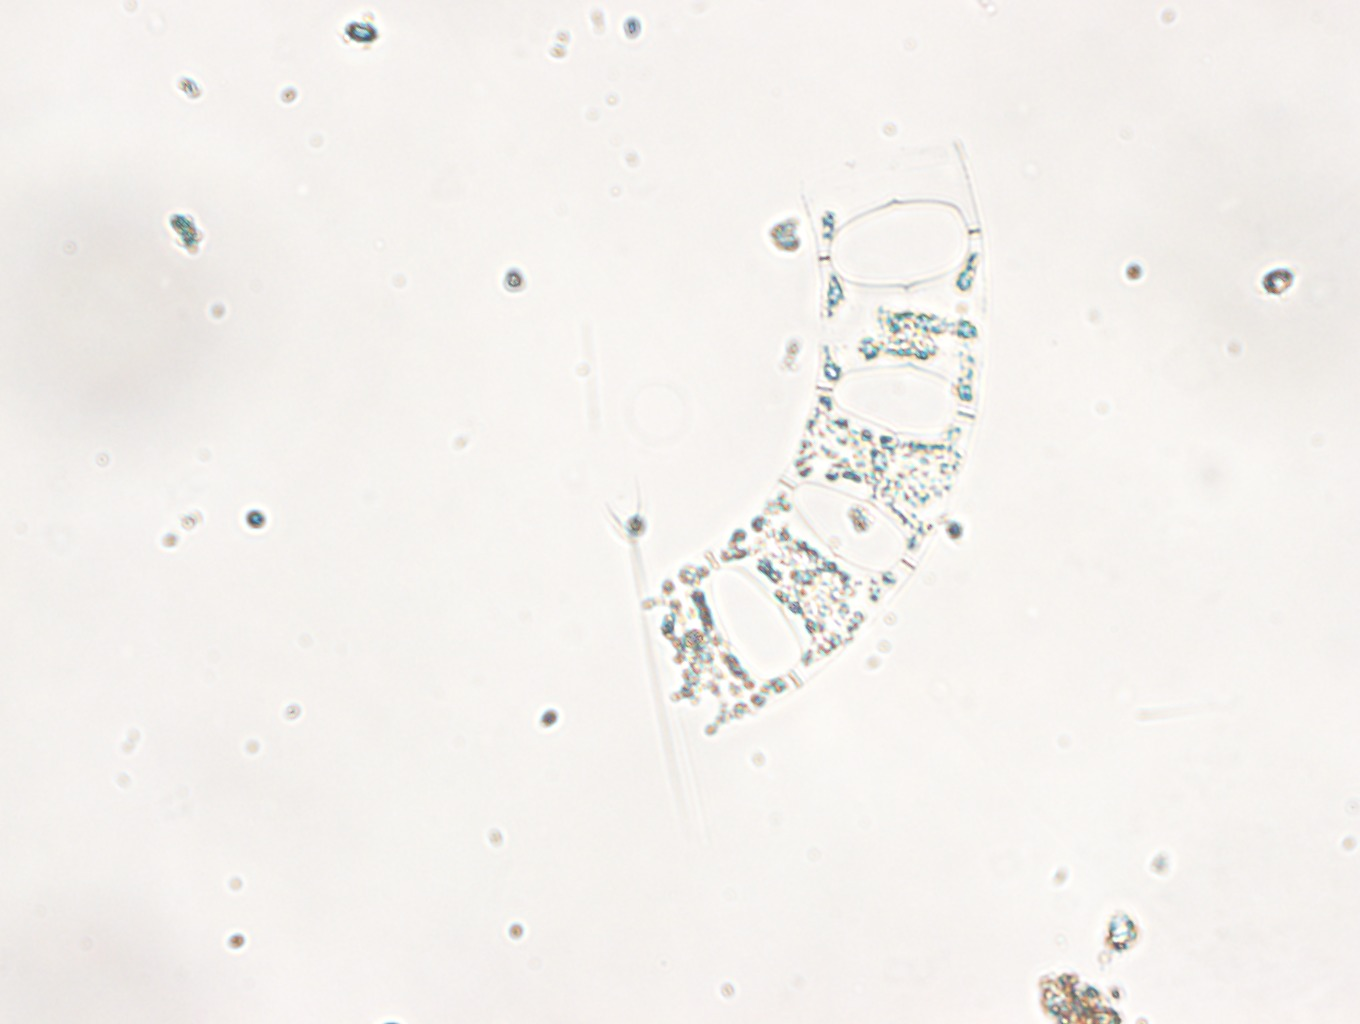eucampia: (644, 145, 985, 736)
